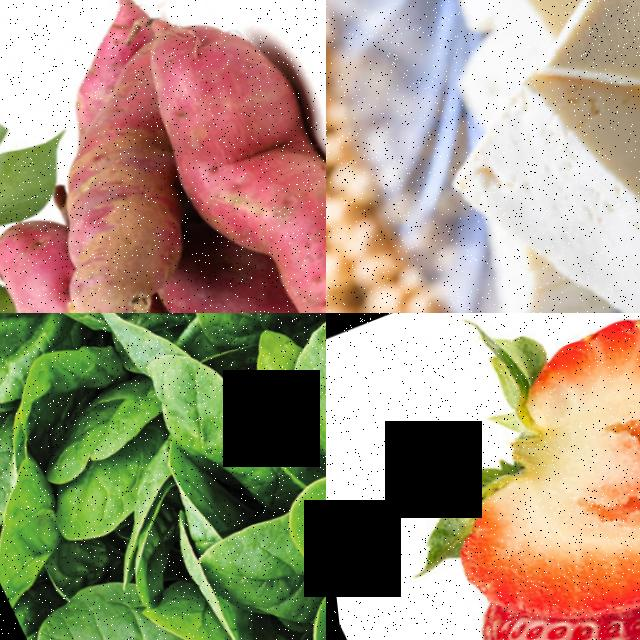spinach: (135, 349, 275, 502), (180, 510, 321, 639), (255, 313, 326, 484), (264, 447, 326, 613), (8, 578, 165, 640), (0, 313, 37, 426)
strawberry: (355, 313, 640, 617), (399, 541, 640, 640)
sweet potato: (96, 0, 326, 313), (11, 139, 226, 313)
tofu: (414, 40, 640, 313), (519, 0, 640, 112)
